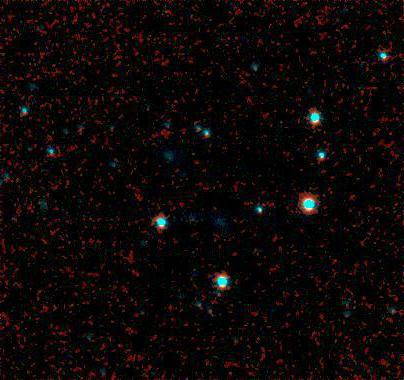star: (272, 107, 302, 137)
